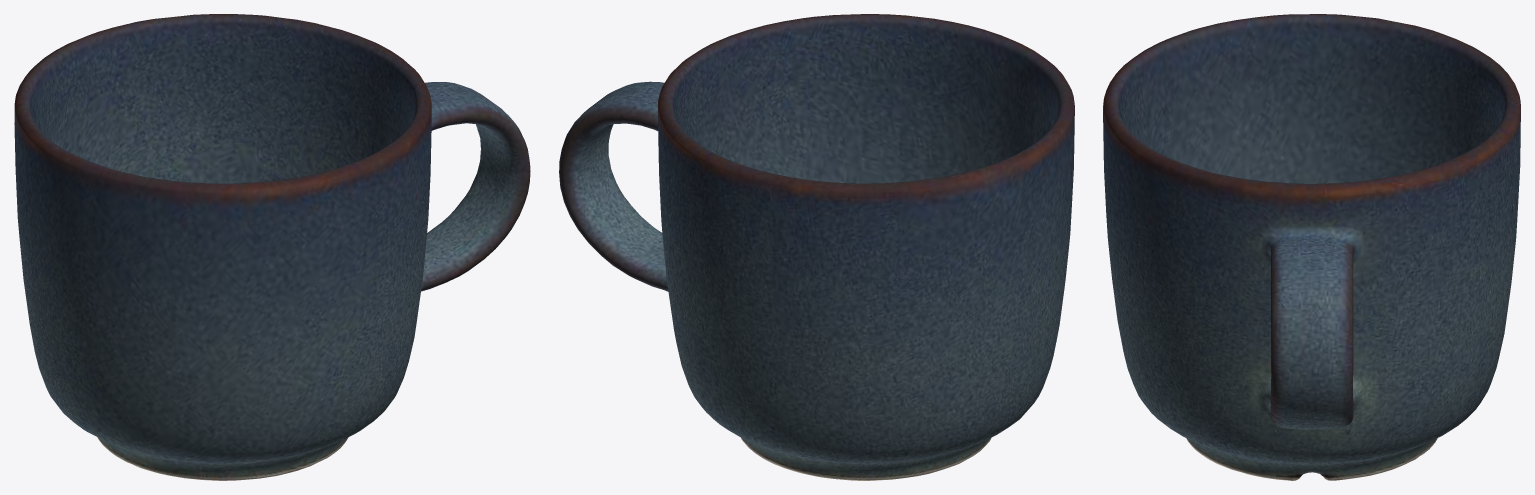
Rendered from gladelig_kubek_40503626.glb.
3 renders of one model, left to right at view 1: azimuth 30°, elevation 25°; view 2: azimuth 150°, elevation 25°; view 3: azimuth 270°, elevation 25°, orthographic.
Visible parts, largest first — view 1: gladelig_kubek_40503626; view 2: gladelig_kubek_40503626; view 3: gladelig_kubek_40503626.
Boxes of the visible parts, bbox=[...] form: gladelig_kubek_40503626: bbox=[14, 14, 530, 480]; gladelig_kubek_40503626: bbox=[559, 14, 1074, 480]; gladelig_kubek_40503626: bbox=[1103, 14, 1520, 480].
Size of the model in its own units: 0.1232 by 0.0816 by 0.0939.
1 material, 1 textured.
